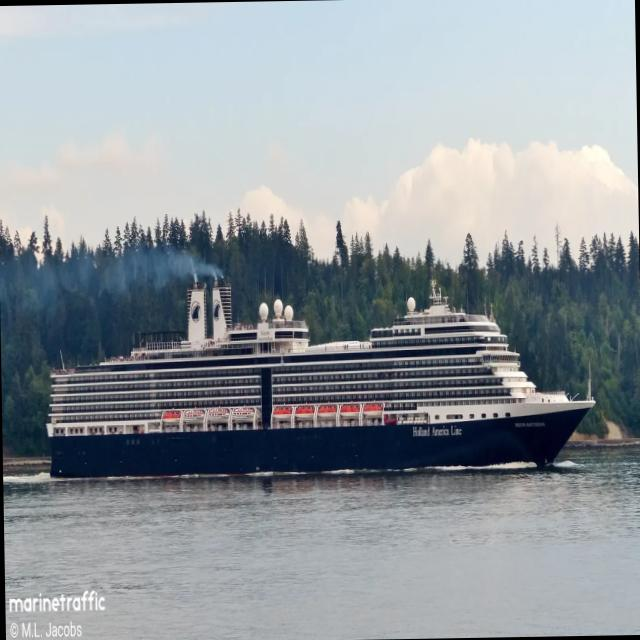Cruise: (46, 279, 595, 477)
